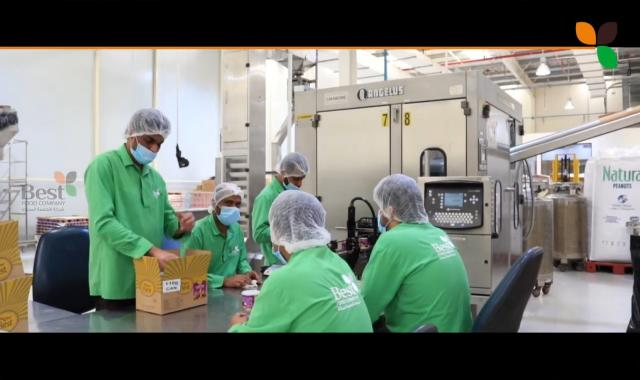hairnet: (270, 190, 330, 254), (375, 174, 429, 226), (120, 107, 170, 143), (208, 180, 238, 218), (277, 150, 308, 183)
